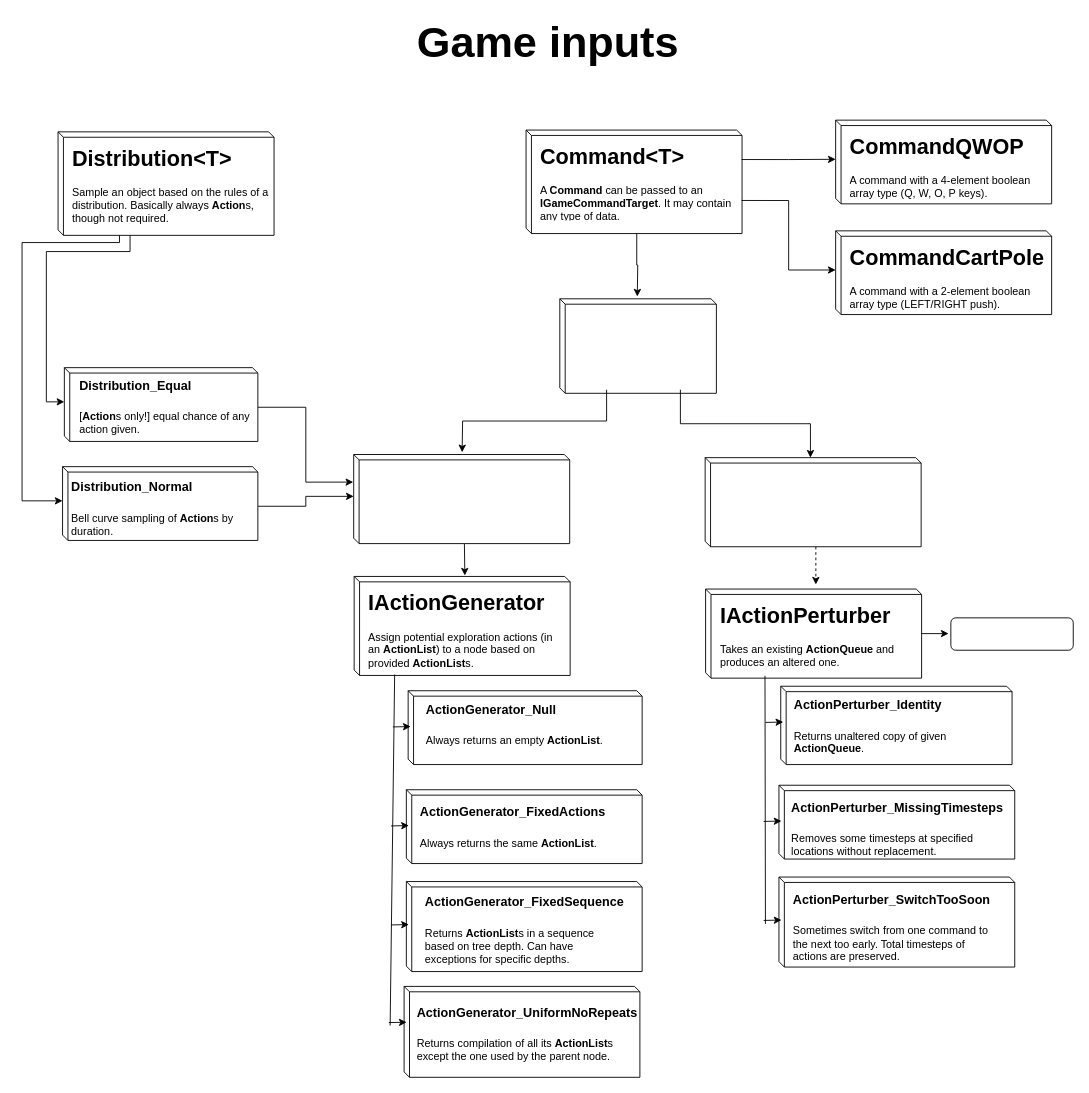
Image size: 1089x1093. Some labels were removed from this diagram. The shapes that lost their labels are listed below. From the top down, each one's centre as x and y in pixels, then its label:
point (637, 345): Action A Command and it's duration in game timesteps.
point (461, 499): ActionList A set of Action s to sample from.
point (812, 502): ActionQueue A sequence of Action s to be executed sequentially by a game.
point (1011, 633): ActionQueue
